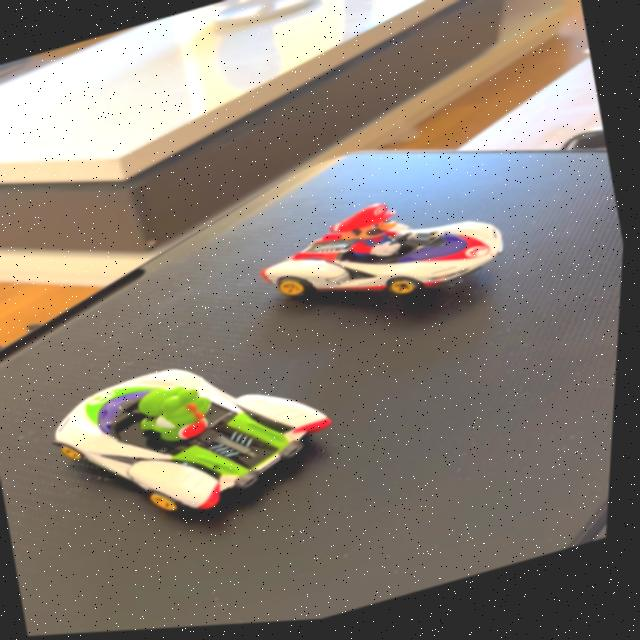mario: (220, 163, 545, 350)
yoshi: (41, 322, 367, 562)
